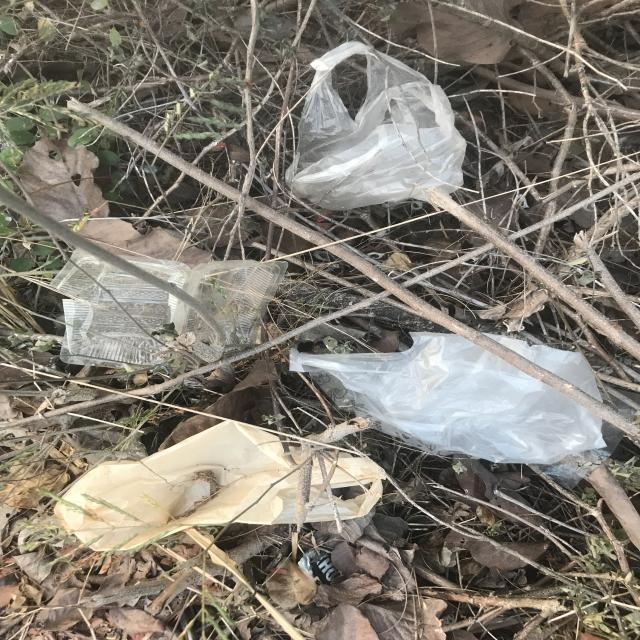Single-layer Plastic: (55, 420, 385, 551), (290, 332, 605, 464), (287, 41, 467, 210), (488, 335, 600, 399)
